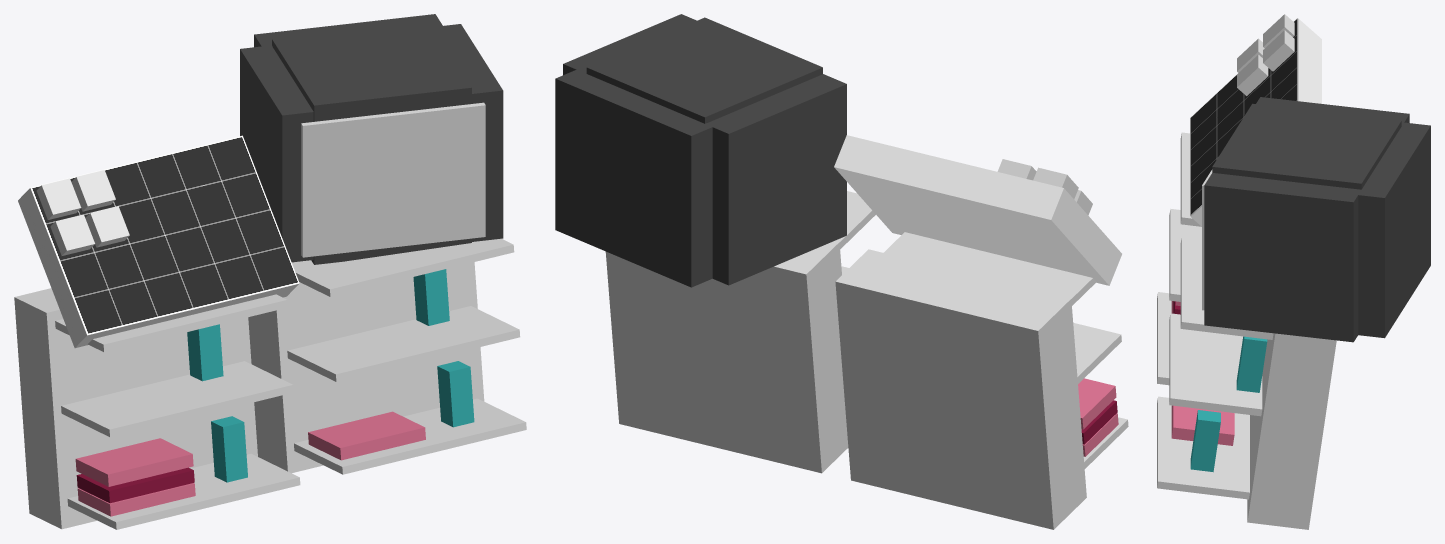
The model's file is cooker_movement_test_for_export.gltf.
3 renders of one model, left to right at view 1: azimuth 30°, elevation 25°; view 2: azimuth 150°, elevation 25°; view 3: azimuth 270°, elevation 25°, orthographic. The views are drawn at different scales.
Parts seen in each view (by area): view 1: GridPlane, MeshInstance3D5, BackgroundBlock2, BackgroundBlock, CookerBody24, CookerBody25, Block, Block4, Block2, Block3, CookerBody26, Block6 (+16 smaller); view 2: BackgroundBlock2, BackgroundBlock, CookerBody27, CookerBody25, CookerBody2, CookerBody24, Block5, CookerBody26, Block4, TempMesh7, Block2; view 3: CookerBody26, BackgroundBlock, CookerBody27, CookerBody24, Block, GridPlane, Block3, Block2, CookerBody2, TempMesh2, TempMesh3, Block4 (+9 smaller).
Part boxes in pixels (bbox=[...]): GridPlane: bbox=[31, 135, 299, 334]; MeshInstance3D5: bbox=[301, 102, 485, 257]; BackgroundBlock2: bbox=[14, 288, 257, 529]; BackgroundBlock: bbox=[248, 262, 484, 473]; CookerBody24: bbox=[272, 21, 471, 121]; CookerBody25: bbox=[240, 46, 313, 262]; Block: bbox=[287, 306, 520, 381]; Block4: bbox=[61, 361, 293, 437]; Block2: bbox=[292, 238, 514, 296]; Block3: bbox=[294, 398, 526, 474]; CookerBody26: bbox=[434, 24, 503, 241]; Block6: bbox=[67, 453, 300, 529]; BackgroundBlock2: bbox=[835, 249, 1086, 529]; BackgroundBlock: bbox=[605, 241, 848, 473]; CookerBody27: bbox=[555, 68, 714, 287]; CookerBody25: bbox=[708, 74, 846, 285]; CookerBody2: bbox=[834, 135, 1121, 285]; CookerBody24: bbox=[586, 17, 822, 123]; Block5: bbox=[883, 232, 1096, 305]; CookerBody26: bbox=[563, 14, 696, 75]; Block4: bbox=[1073, 323, 1121, 383]; TempMesh7: bbox=[1078, 378, 1116, 429]; Block2: bbox=[835, 191, 875, 249]; CookerBody26: bbox=[1204, 173, 1360, 342]; BackgroundBlock: bbox=[1247, 333, 1336, 529]; CookerBody27: bbox=[1355, 122, 1430, 338]; CookerBody24: bbox=[1212, 103, 1401, 189]; Block: bbox=[1169, 313, 1262, 416]; GridPlane: bbox=[1190, 18, 1297, 215]; Block3: bbox=[1157, 396, 1249, 499]; Block2: bbox=[1180, 237, 1273, 339]; CookerBody2: bbox=[1190, 18, 1321, 226]; TempMesh2: bbox=[1190, 410, 1220, 472]; TempMesh3: bbox=[1171, 405, 1234, 445]; Block4: bbox=[1169, 208, 1201, 301].
Bounding box in the file's own units: 1.63 × 1.24 × 0.8858.
Materials: 7 (2 with a texture image).
